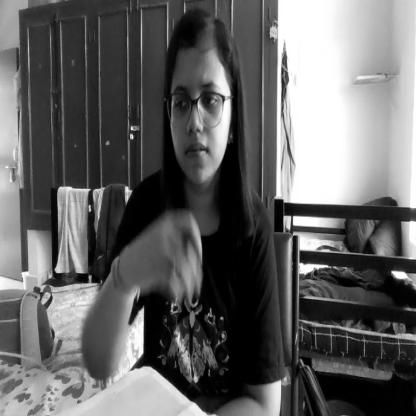Normal: (166, 11, 238, 190)
